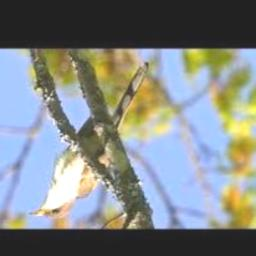Cuckoo: (27, 62, 148, 218)
